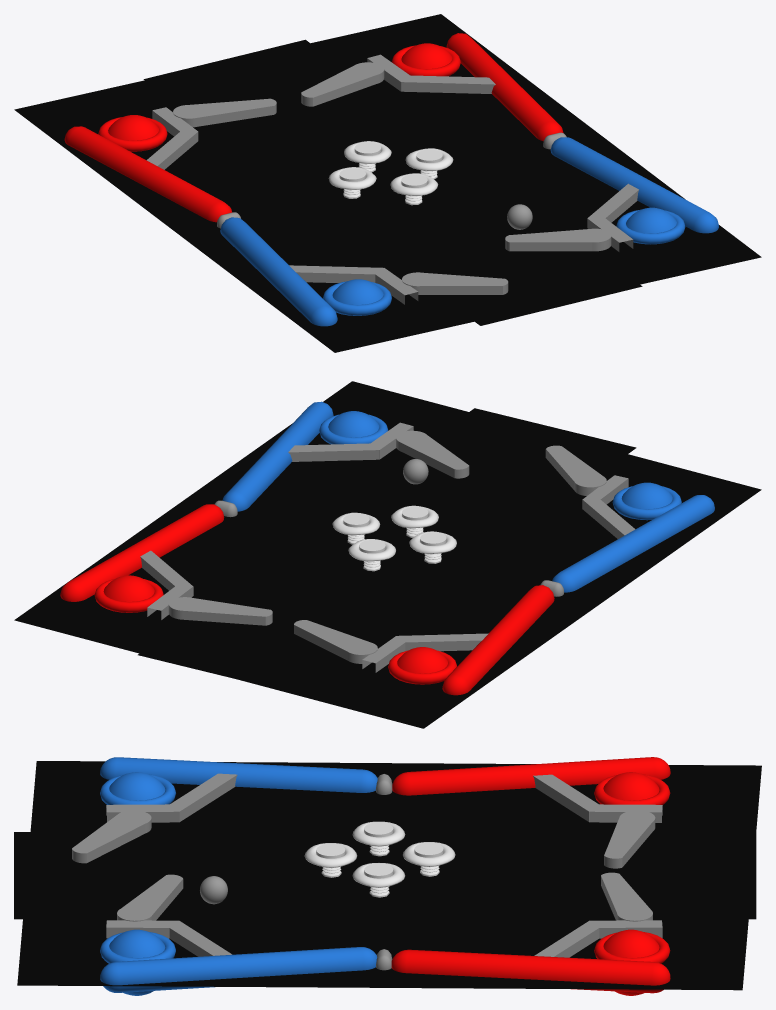
File: Multi-Pinball Prototype 1.FBX
The picture shows the model from 3 angles, top to bottom: view 1: azimuth 30°, elevation 25°; view 2: azimuth 150°, elevation 25°; view 3: azimuth 270°, elevation 25°; orthographic projection. The views are drawn at different scales.
Visible parts, largest first — view 1: Box001, Plane002, Plane001, Capsule003, Capsule001, Capsule002, Capsule004, Arc003, Object004, Object003, Arc004, Arc001 (+11 smaller); view 2: Box001, Plane002, Plane001, Capsule002, Capsule004, Capsule003, Capsule001, Arc002, Object001, Flipper Button 003, Flipper Button 004, Object005 (+11 smaller); view 3: Box001, Plane002, Plane001, Capsule001, Capsule004, Capsule003, Capsule002, Object003, Object005, Arc004, Flipper Button 004, Flipper Button 2 (+12 smaller).
Boxes of the visible parts, x1,y1,x2,y2 form: Box001: [14, 14, 761, 352]; Plane002: [143, 39, 345, 105]; Plane001: [438, 255, 642, 325]; Capsule003: [64, 126, 232, 222]; Capsule001: [550, 137, 718, 233]; Capsule002: [220, 217, 337, 326]; Capsule004: [446, 33, 563, 141]; Arc003: [505, 228, 611, 251]; Object004: [367, 54, 495, 93]; Object003: [289, 265, 418, 304]; Arc004: [402, 272, 508, 294]; Arc001: [173, 98, 276, 127]; Box001: [14, 381, 761, 728]; Plane002: [138, 624, 341, 694]; Plane001: [433, 408, 636, 473]; Capsule002: [552, 495, 714, 592]; Capsule004: [60, 504, 224, 601]; Capsule003: [442, 585, 554, 695]; Capsule001: [222, 401, 333, 511]; Arc002: [168, 597, 272, 625]; Object001: [288, 422, 413, 461]; Flipper Button 003: [388, 647, 456, 684]; Flipper Button 004: [94, 575, 163, 612]; Object005: [362, 633, 488, 672]; Box001: [17, 761, 761, 990]; Plane002: [663, 832, 756, 919]; Plane001: [14, 832, 106, 919]; Capsule001: [100, 947, 377, 992]; Capsule004: [391, 949, 670, 993]; Capsule003: [392, 757, 670, 795]; Capsule002: [100, 757, 377, 792]; Object003: [106, 773, 237, 822]; Object005: [533, 774, 662, 822]; Arc004: [72, 810, 151, 863]; Flipper Button 004: [594, 929, 670, 995]; Flipper Button 2: [100, 772, 175, 804].
Bounding box in the file's own units: 398 × 51.39 × 549.
